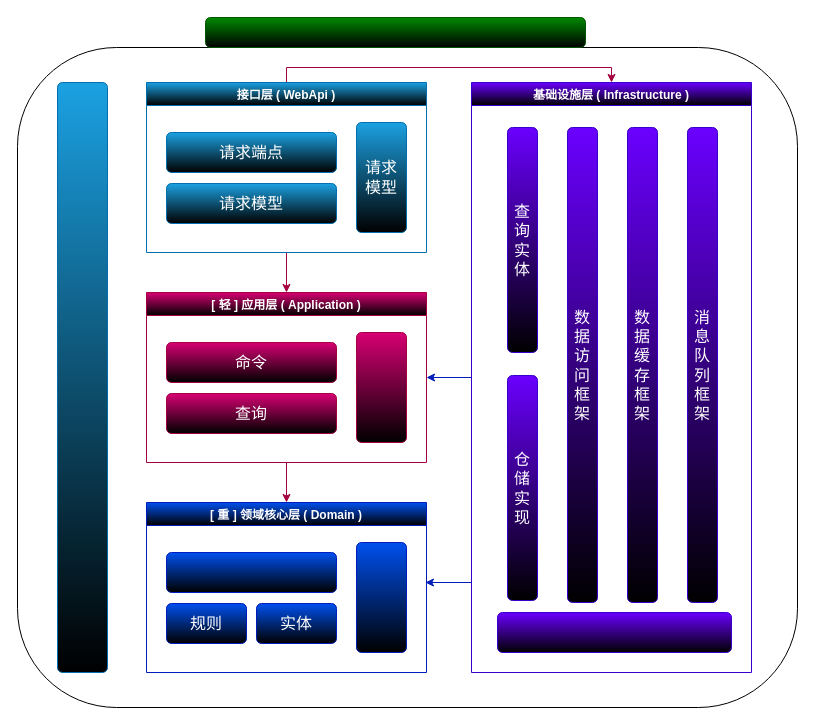
This 815x725 diagram has some shape labels left out. Here are the shapes that lost their labels. From the top down, the centre of each, then its label:
the point at 395,32: 【 整洁架构 】基于领域驱动设计
the point at 82,377: 共享类库
the point at 381,387: 查询服务抽象
the point at 251,572: 业务逻辑
the point at 381,597: 仓储服务抽象
the point at 614,632: 第三方工具( 日志 ... )
